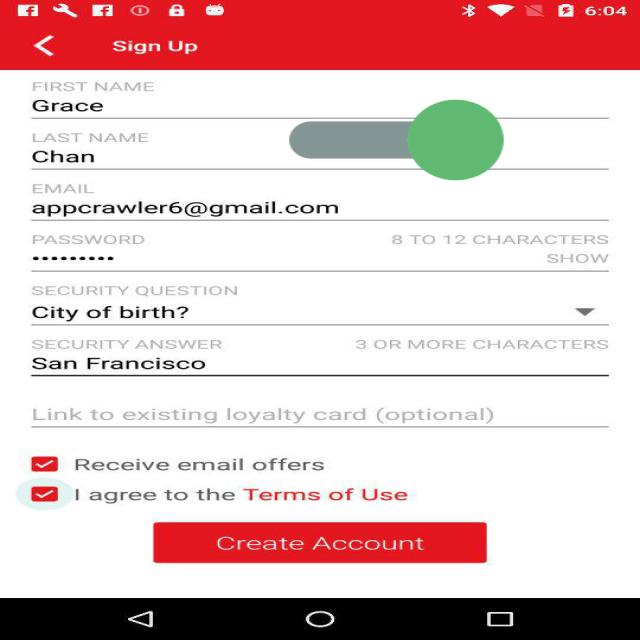social proof: (289, 50, 504, 230)
